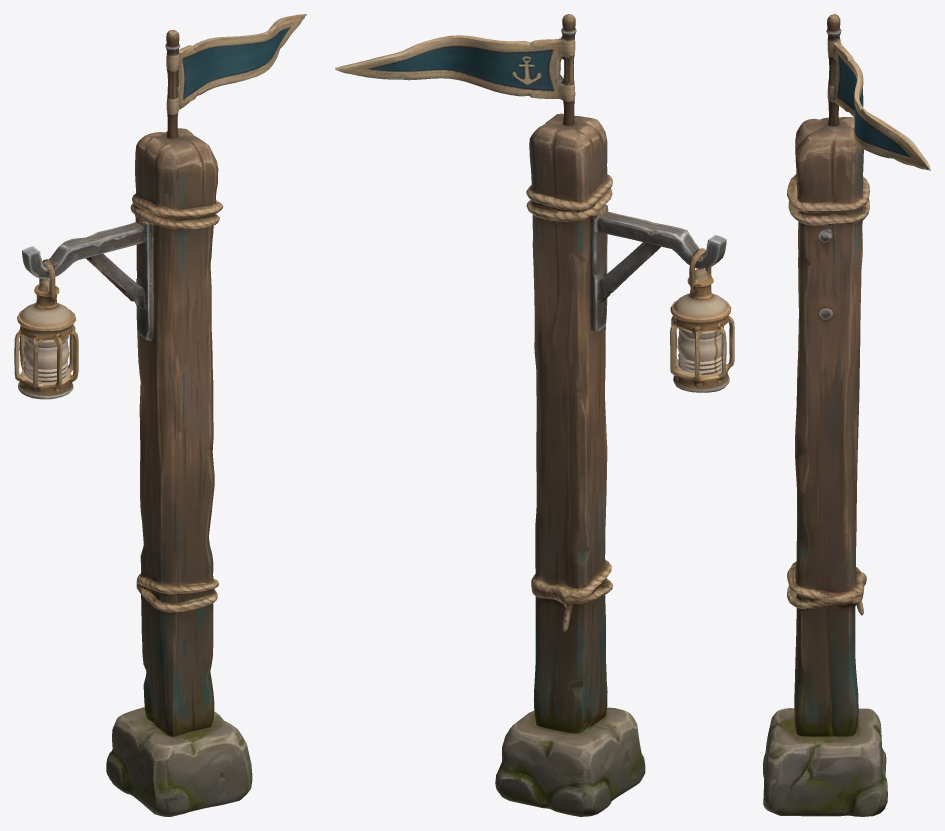
Rendered from tidewake_signal_lantern_post.glb.
3 renders of one model, left to right at view 1: azimuth 30°, elevation 25°; view 2: azimuth 150°, elevation 25°; view 3: azimuth 270°, elevation 25°, orthographic. The views are drawn at different scales.
Parts seen in each view (by area): view 1: Mesh_0; view 2: Mesh_0; view 3: Mesh_0.
Boxes of the visible parts, x1,y1,x2,y2 form: Mesh_0: (14,14,306,816); Mesh_0: (335,14,734,816); Mesh_0: (763,14,930,816).
Size of the model in its own units: 0.8837 by 1.9 by 0.3714.
1 material, 1 textured.
